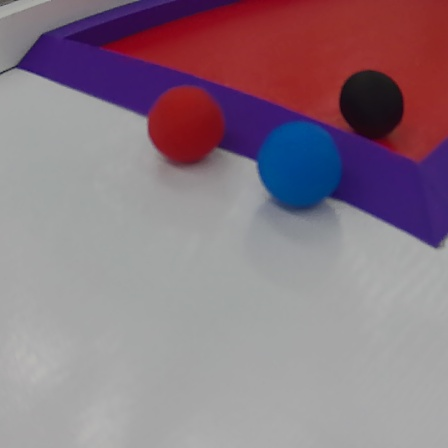black: (341, 67, 408, 142)
blue: (256, 118, 343, 212)
red: (145, 84, 224, 173)
red_aim: (22, 2, 448, 252)
